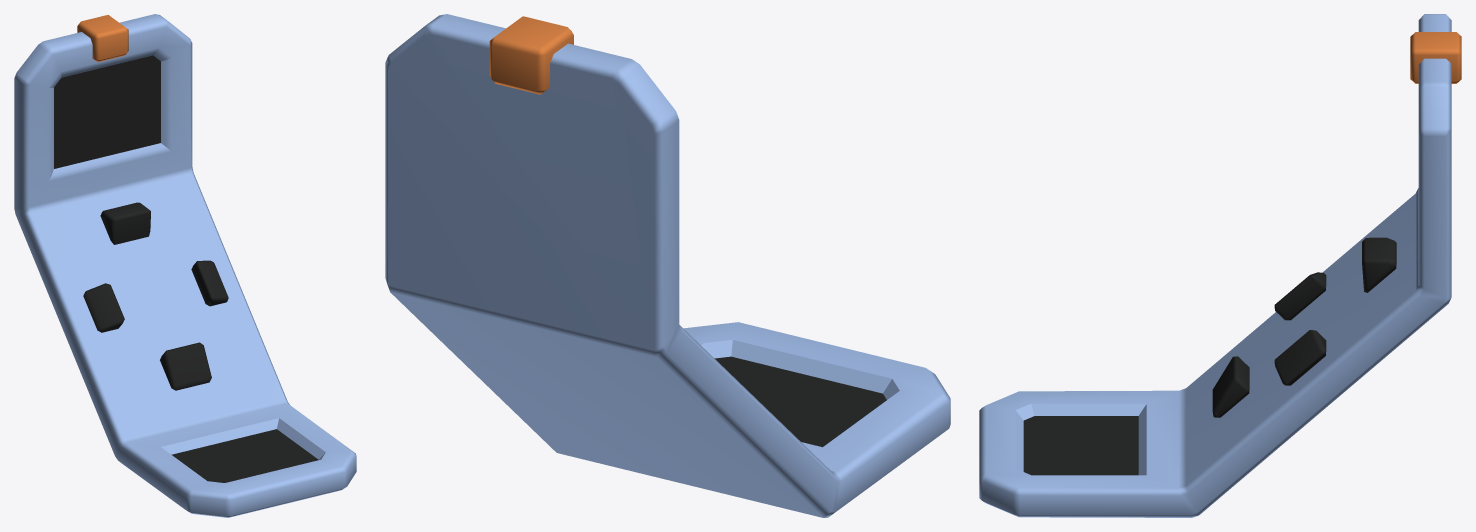
Rendered from boardsmall_001.fbx.
3 views of the same model, side by side, from view 1: azimuth 30°, elevation 25°; view 2: azimuth 150°, elevation 25°; view 3: azimuth 270°, elevation 25° (orthographic). The views are drawn at different scales.
Visible parts, largest first — view 1: boardsmall_001; view 2: boardsmall_001; view 3: boardsmall_001.
Boxes of the visible parts, x1=… form: boardsmall_001: x1=14, y1=14, x2=356, y2=517; boardsmall_001: x1=385, y1=14, x2=950, y2=517; boardsmall_001: x1=979, y1=14, x2=1461, y2=517.
Size of the model in its own units: 637 by 1271 by 1247.
